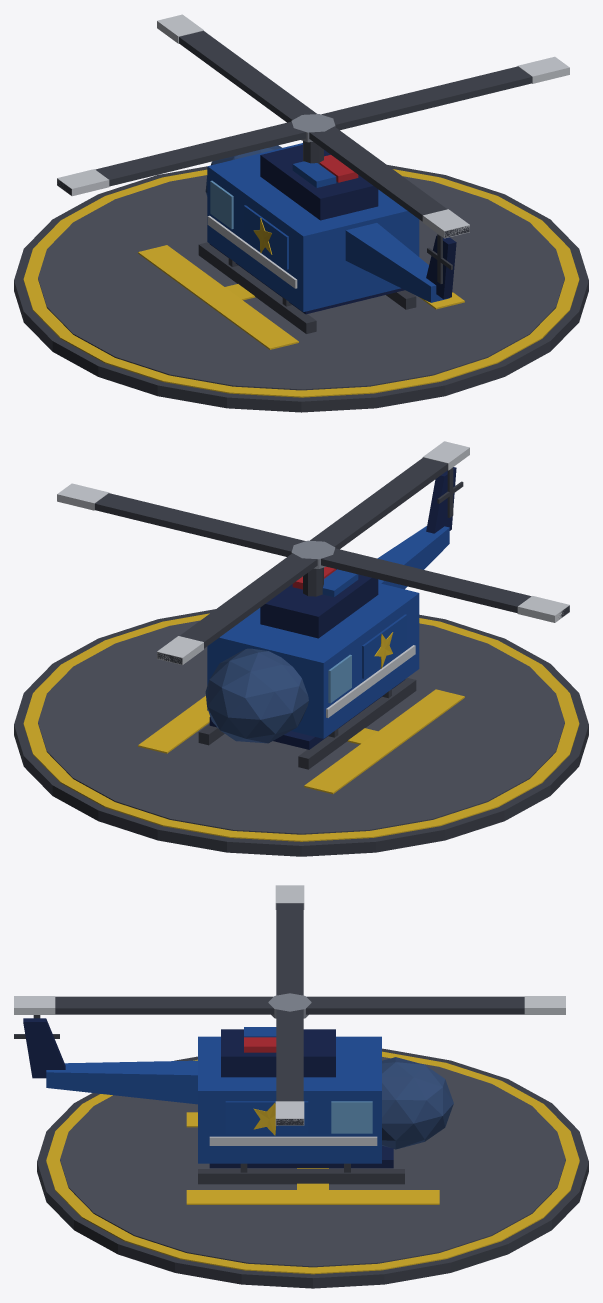
File: Decor_PoliceStation_Heli.fbx
3 renders of one model, top to bottom at view 1: azimuth 30°, elevation 25°; view 2: azimuth 150°, elevation 25°; view 3: azimuth 270°, elevation 25°, orthographic. The views are drawn at different scales.
Visible parts, largest first — view 1: Heli_Body; view 2: Heli_Body; view 3: Heli_Body.
Part boxes in pixels (x1,y1,x2,y2): Heli_Body: [14, 14, 588, 412]; Heli_Body: [14, 441, 588, 856]; Heli_Body: [14, 885, 588, 1288].
Size of the model in its own units: 24 by 8.15 by 25.
